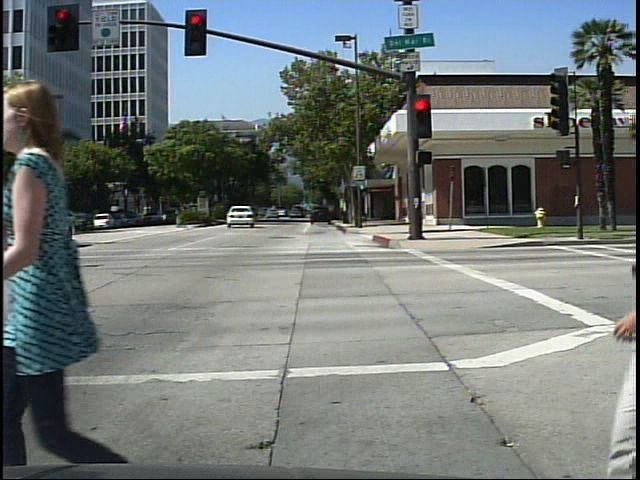person: (0, 64, 160, 467)
